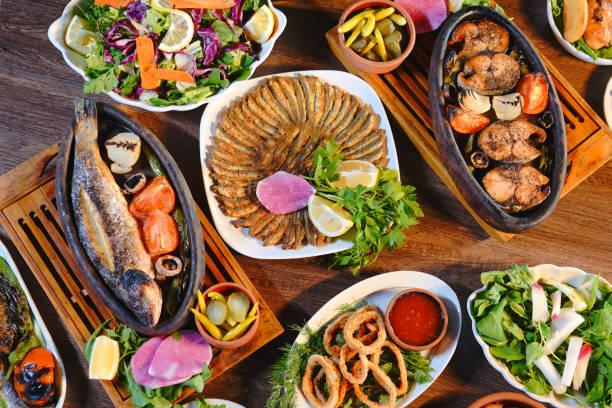Braised Crucian Carp: (1, 108, 283, 403), (198, 69, 392, 261), (428, 5, 566, 232), (45, 1, 279, 112), (280, 270, 460, 406), (464, 264, 610, 406)
